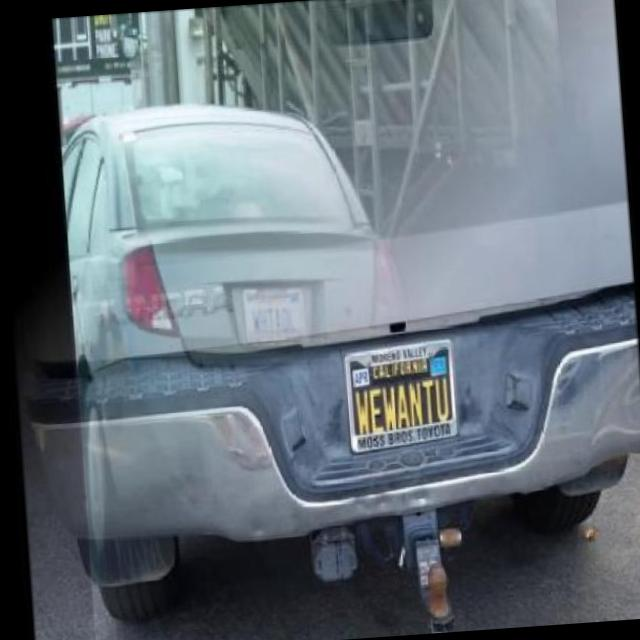LicensePlate: (343, 354, 455, 436)
